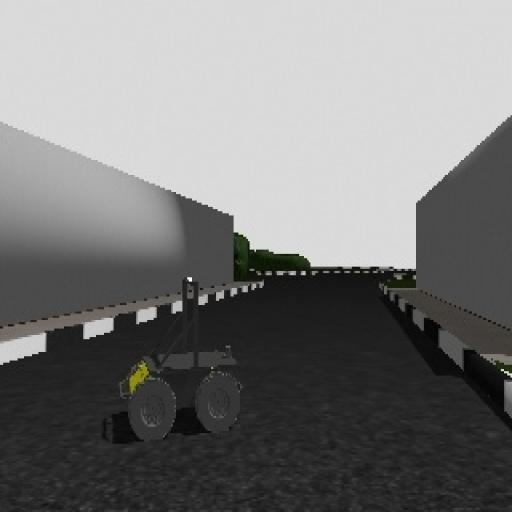huskya200: (109, 266, 277, 442)
